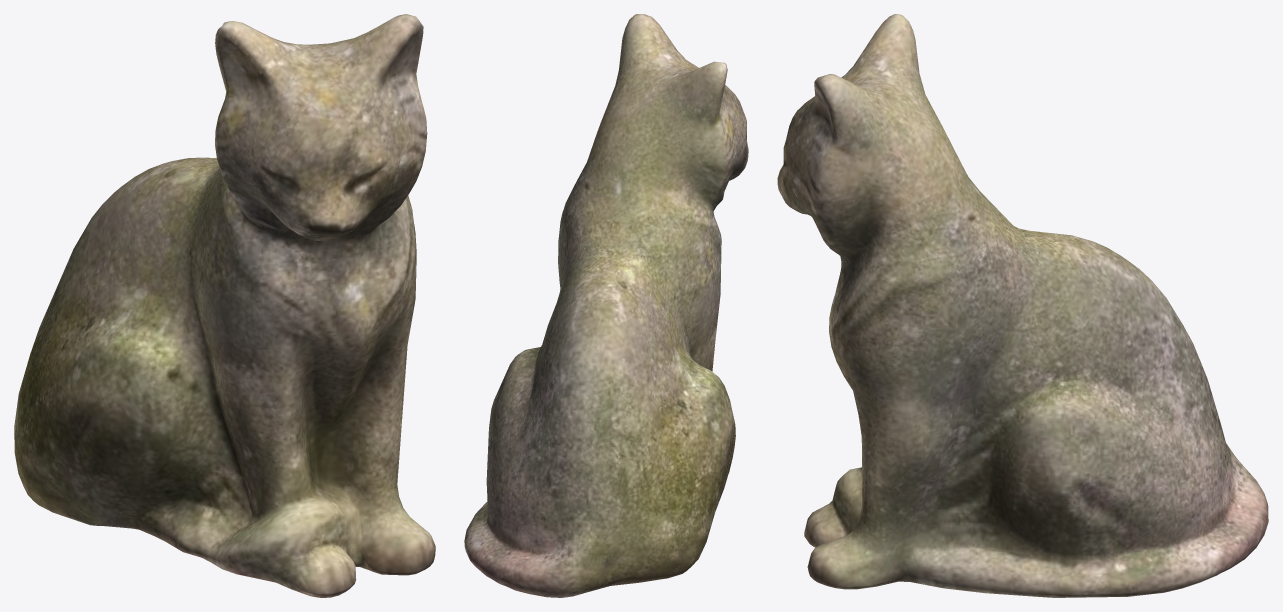
File: concrete_cat_statue.glb
The picture shows the model from 3 angles, left to right: view 1: azimuth 30°, elevation 25°; view 2: azimuth 150°, elevation 25°; view 3: azimuth 270°, elevation 25°; orthographic projection. The views are drawn at different scales.
Visible parts, largest first — view 1: concrete_cat_statue; view 2: concrete_cat_statue; view 3: concrete_cat_statue.
Boxes of the visible parts, x1,y1,x2,y2 form: concrete_cat_statue: (14, 14, 435, 597); concrete_cat_statue: (464, 14, 748, 597); concrete_cat_statue: (777, 14, 1268, 597).
Bounding box in the file's own units: 0.1529 × 0.283 × 0.25.
Materials: 1 (1 with a texture image).
